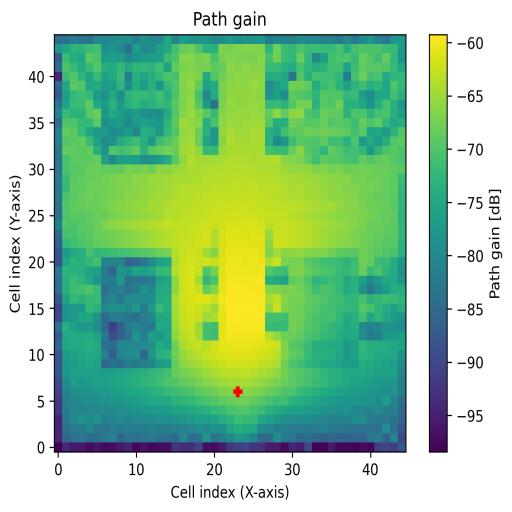Concrete: (289, 54, 367, 165)
Glass: (101, 46, 180, 163)
Metal: (282, 257, 359, 367)
Wood: (100, 257, 171, 370)
